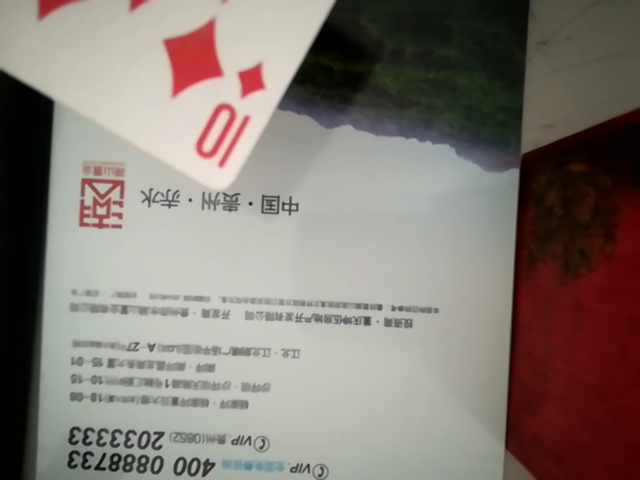fk 10: (1, 0, 494, 204)
